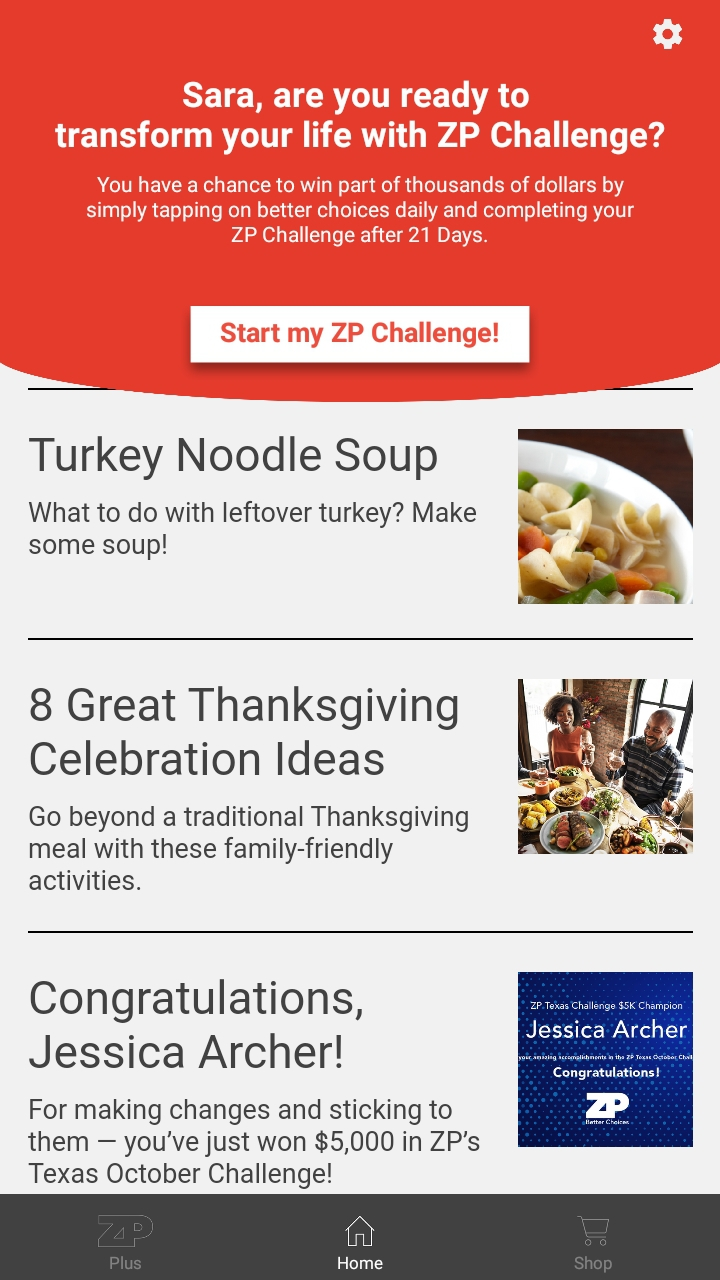Icon: (577, 1215, 609, 1246), (652, 19, 683, 51), (345, 1216, 376, 1247)
Image: (517, 429, 694, 605), (518, 972, 694, 1148), (518, 679, 693, 855), (97, 1215, 154, 1248)
Text: (55, 80, 665, 156), (28, 1099, 480, 1190), (87, 176, 635, 248), (30, 685, 459, 776), (29, 805, 469, 892), (29, 978, 363, 1069), (29, 501, 477, 561), (29, 436, 438, 481), (574, 1256, 613, 1274), (338, 1255, 384, 1270), (111, 1256, 142, 1270)
TextButton: (190, 306, 530, 364)
